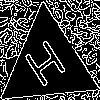H: (22, 38, 73, 97)
